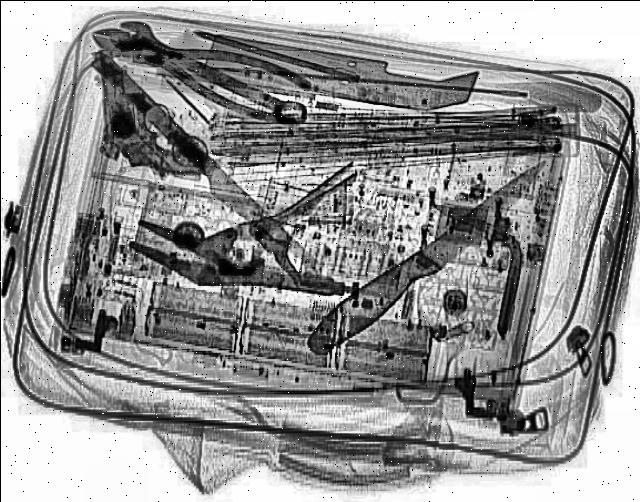Gun: (95, 54, 203, 180)
Knife: (74, 55, 320, 278), (294, 155, 558, 361)
Pliers: (72, 8, 314, 130)
Wrench: (100, 15, 314, 133)
